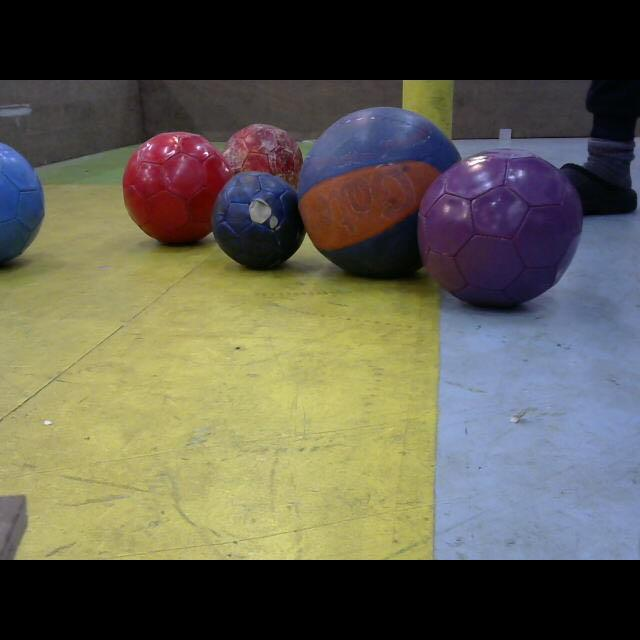B: (0, 140, 48, 264)
P: (419, 145, 583, 307)
R: (124, 130, 238, 244)
